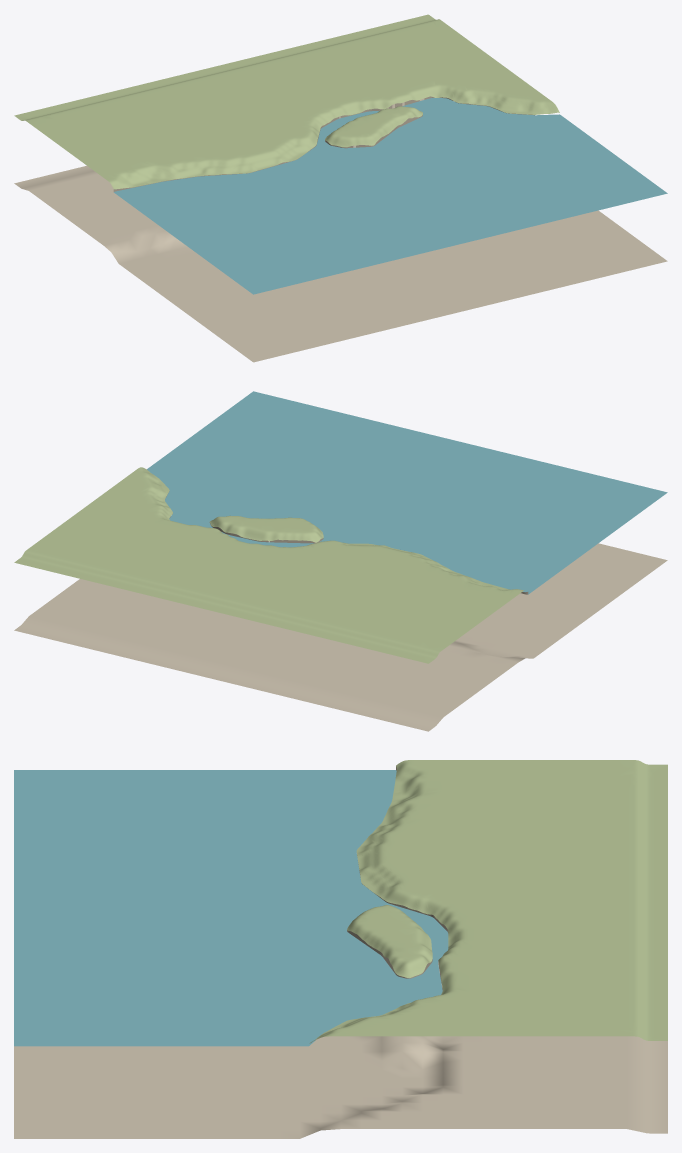
The picture shows the model from 3 angles, top to bottom: view 1: azimuth 30°, elevation 25°; view 2: azimuth 150°, elevation 25°; view 3: azimuth 270°, elevation 25°; orthographic projection. The views are drawn at different scales.
Visible parts, largest first — view 1: s_3_-1__water, s_3_-1__grass, s_3_-1__soil, s_3_-1__shore_bank; view 2: s_3_-1__water, s_3_-1__grass, s_3_-1__soil; view 3: s_3_-1__water, s_3_-1__grass, s_3_-1__soil.
Part boxes in pixels (x1,y1,x2,y2): s_3_-1__water: [114, 98, 667, 294]; s_3_-1__grass: [14, 14, 559, 189]; s_3_-1__soil: [14, 98, 667, 362]; s_3_-1__shore_bank: [113, 97, 534, 191]; s_3_-1__water: [147, 391, 667, 594]; s_3_-1__grass: [14, 467, 524, 663]; s_3_-1__soil: [14, 541, 667, 731]; s_3_-1__water: [14, 770, 448, 1046]; s_3_-1__grass: [309, 760, 667, 1043]; s_3_-1__soil: [14, 962, 667, 1138].
Bounding box in the file's own units: 128 × 22.14 × 128.
